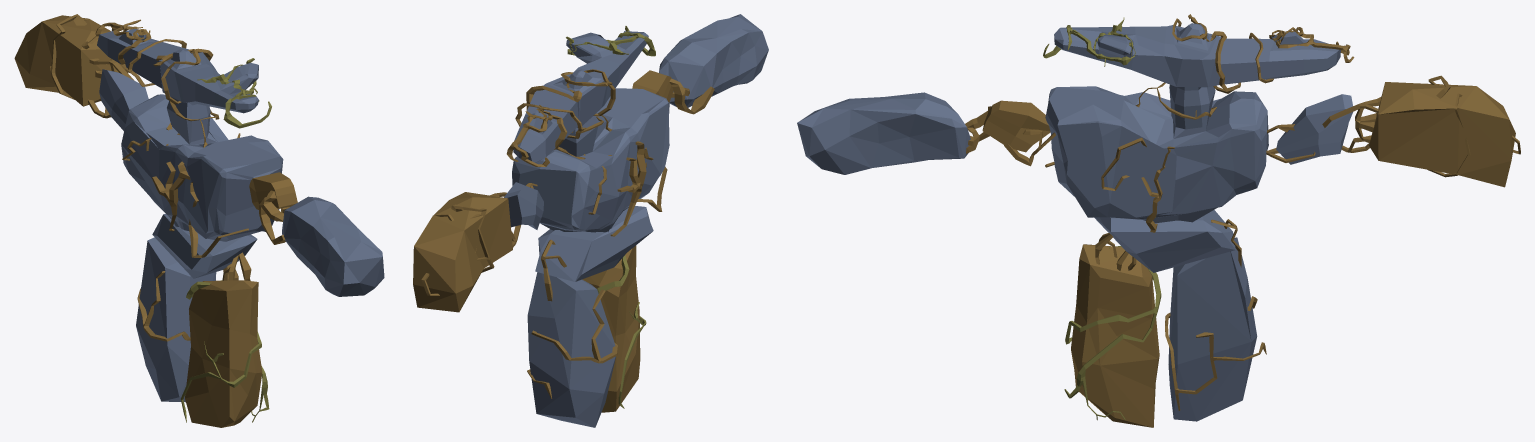
The model's file is GOLEM.FIXESANDCHANGESfWITHOUTEYES.fbx.
3 views of the same model, side by side, from view 1: azimuth 30°, elevation 25°; view 2: azimuth 150°, elevation 25°; view 3: azimuth 270°, elevation 25° (orthographic). The views are drawn at different scales.
Parts seen in each view (by area): view 1: torso, right leg, EYES, right uppper arm, left leg, head, left upper arm, hips, left shoulder, right shoulder, root1, root3; view 2: torso, left leg, left upper arm, EYES, head, right uppper arm, hips, right leg, left shoulder, root1, right shoulder, root3; view 3: torso, right leg, left leg, left upper arm, head, right uppper arm, EYES, hips, left shoulder, right shoulder, root1, root3.
Boxes of the visible parts, x1,y1,x2,y2 form: torso: [121, 94, 283, 241]; right leg: [185, 280, 262, 427]; EYES: [50, 14, 289, 341]; right uppper arm: [282, 196, 384, 296]; left leg: [136, 237, 216, 402]; head: [97, 29, 258, 113]; left upper arm: [14, 15, 128, 106]; hips: [152, 214, 257, 278]; left shoulder: [99, 69, 148, 130]; right shoulder: [249, 172, 297, 209]; root1: [180, 280, 269, 422]; root3: [197, 58, 271, 128]; torso: [512, 88, 669, 232]; left leg: [527, 272, 615, 427]; left upper arm: [413, 192, 512, 312]; EYES: [421, 69, 714, 398]; head: [513, 31, 648, 162]; right uppper arm: [659, 14, 768, 107]; hips: [535, 206, 653, 281]; right leg: [582, 245, 640, 412]; left shoulder: [504, 182, 543, 229]; root1: [597, 255, 646, 408]; right shoulder: [632, 70, 673, 102]; root3: [566, 26, 655, 56]; torso: [1045, 84, 1268, 223]; right leg: [1071, 244, 1159, 427]; left leg: [1168, 237, 1257, 421]; left upper arm: [1369, 82, 1515, 187]; head: [1054, 23, 1340, 87]; right uppper arm: [797, 92, 970, 174]; EYES: [965, 14, 1520, 410]; hips: [1094, 210, 1235, 272]; left shoulder: [1276, 94, 1352, 164]; right shoulder: [982, 100, 1050, 152]; root1: [1064, 246, 1161, 420]; root3: [1043, 17, 1135, 66].
Bounding box in the file's own units: 2121 × 7871 × 12938.
